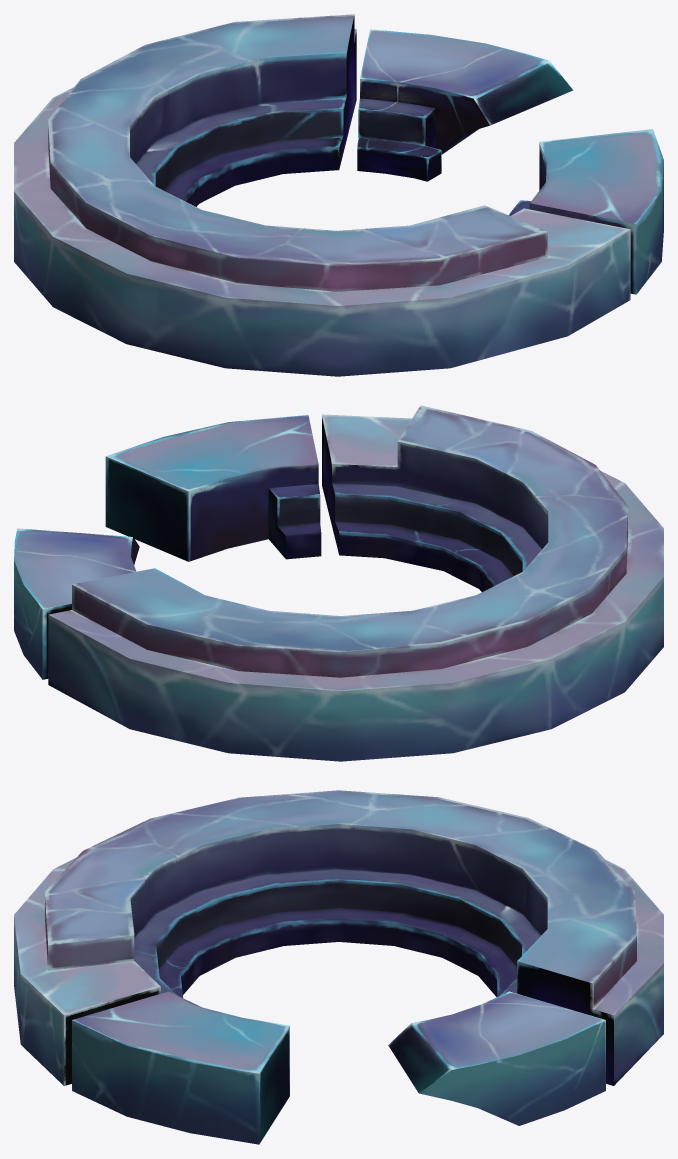
File: zhanxingtai_3.FBX
3 renders of one model, top to bottom at view 1: azimuth 30°, elevation 25°; view 2: azimuth 150°, elevation 25°; view 3: azimuth 270°, elevation 25°, orthographic.
Visible parts, largest first — view 1: zhanxingtai_3; view 2: zhanxingtai_3; view 3: zhanxingtai_3.
Boxes of the visible parts, x1,y1,x2,y2 form: zhanxingtai_3: (14, 14, 663, 376); zhanxingtai_3: (14, 405, 663, 761); zhanxingtai_3: (14, 790, 663, 1144).
Size of the model in its own units: 74.01 by 12.13 by 74.12.
